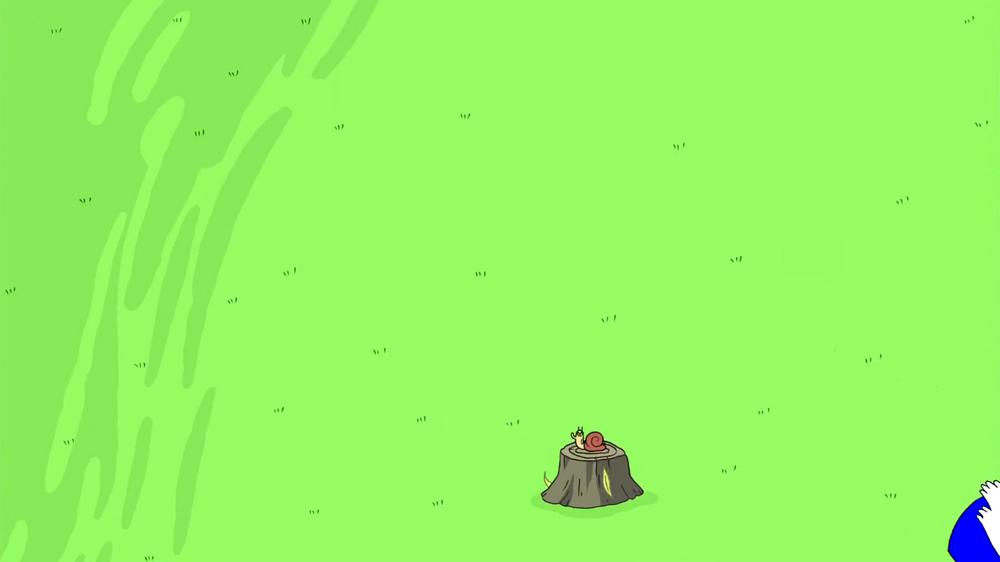snail: (569, 425, 611, 453)
